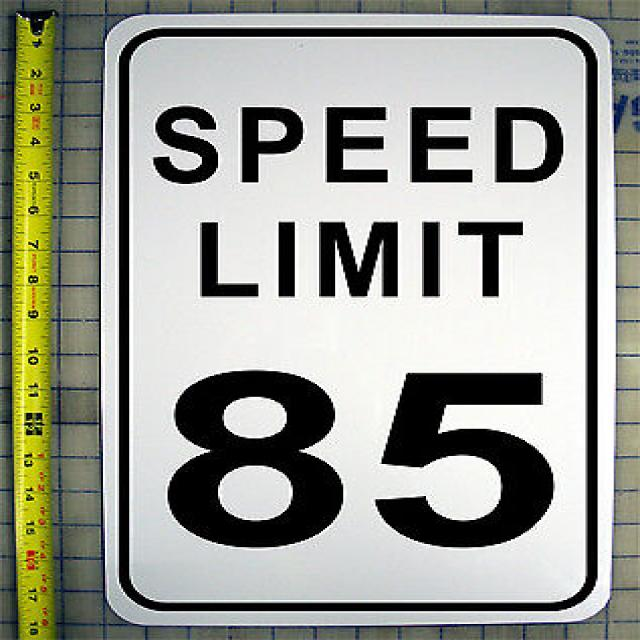speedLimit85: (106, 13, 607, 616)
